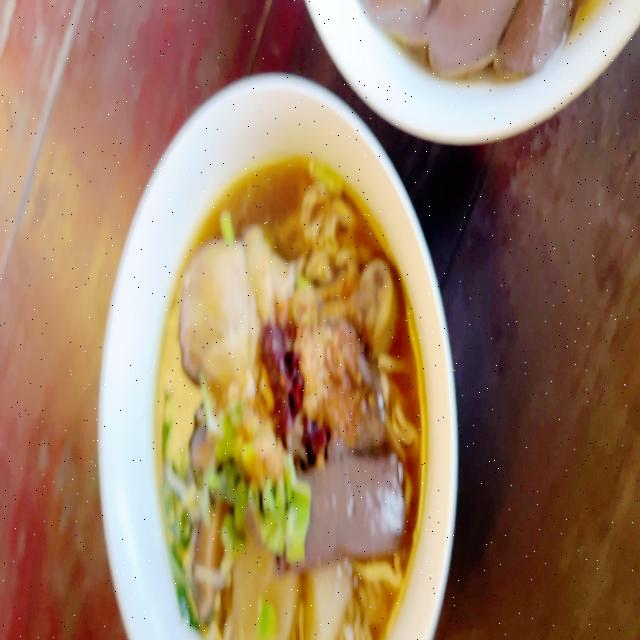boiled_chicken_blood_jelly: (358, 0, 574, 75), (299, 470, 400, 550)
chicken_drumstick: (178, 237, 396, 377)
daikon_radish: (225, 543, 301, 633), (301, 567, 350, 640)
noodle: (134, 137, 449, 640), (334, 0, 620, 100)
